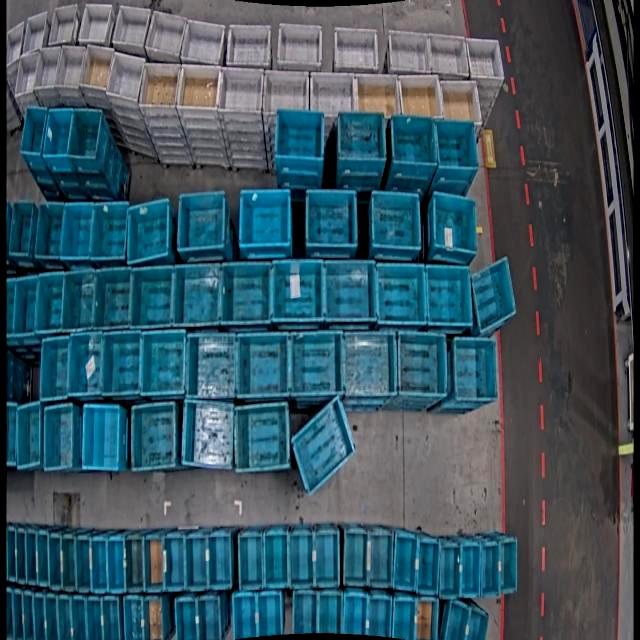Box: (290, 396, 356, 495), (394, 328, 450, 401), (235, 401, 292, 472), (288, 329, 344, 400), (322, 256, 380, 324), (339, 330, 397, 398), (470, 256, 521, 333), (368, 189, 424, 259), (237, 330, 293, 400), (448, 332, 502, 404), (269, 256, 325, 323), (372, 260, 428, 327), (182, 399, 235, 469), (303, 186, 359, 252), (220, 258, 272, 328), (239, 186, 294, 252), (430, 190, 480, 262), (185, 332, 239, 398), (177, 189, 229, 257), (422, 263, 474, 330), (140, 329, 190, 398), (130, 400, 178, 471), (174, 264, 224, 328), (128, 264, 175, 330), (127, 202, 172, 268), (272, 108, 324, 165), (100, 330, 142, 398), (336, 109, 386, 166), (390, 113, 439, 170), (435, 117, 481, 173), (94, 266, 134, 330), (57, 270, 97, 334), (274, 20, 323, 72), (332, 22, 381, 74), (82, 403, 120, 470), (88, 200, 128, 262), (218, 66, 265, 117), (397, 73, 444, 123), (263, 70, 312, 117), (182, 17, 227, 68), (308, 71, 356, 118), (68, 332, 102, 397), (226, 20, 272, 68), (438, 78, 482, 128), (146, 11, 187, 64), (355, 72, 403, 117), (139, 60, 183, 109), (60, 200, 95, 260), (389, 28, 432, 76), (179, 65, 221, 114), (114, 4, 152, 58), (82, 46, 116, 106), (106, 51, 143, 106), (67, 109, 105, 162), (44, 404, 73, 470), (34, 271, 65, 332), (42, 335, 72, 398), (33, 200, 64, 260), (56, 46, 88, 103), (16, 404, 45, 466), (11, 276, 40, 337), (9, 200, 39, 257), (44, 108, 74, 160), (264, 530, 290, 590), (207, 531, 233, 591), (32, 47, 63, 97), (394, 533, 420, 592), (238, 532, 264, 591), (314, 528, 339, 589), (343, 528, 368, 588), (48, 5, 82, 49), (82, 3, 114, 49), (164, 532, 188, 592), (288, 531, 313, 588), (188, 532, 212, 591), (370, 531, 394, 589), (21, 106, 48, 157), (142, 533, 165, 592), (105, 533, 126, 593), (291, 586, 317, 634), (21, 14, 50, 57), (127, 534, 148, 592), (480, 538, 500, 598), (258, 591, 283, 637), (232, 594, 257, 640), (444, 599, 472, 640), (440, 545, 461, 598), (197, 596, 222, 640), (500, 536, 518, 596), (367, 597, 393, 638), (462, 539, 480, 598), (90, 534, 108, 593), (420, 542, 440, 595), (344, 592, 368, 636), (392, 599, 417, 640), (319, 591, 342, 635), (124, 597, 147, 640), (175, 598, 198, 640), (62, 534, 78, 592), (49, 533, 65, 590), (143, 597, 164, 640), (101, 595, 121, 640), (75, 537, 91, 593), (417, 599, 438, 640), (35, 532, 50, 588), (25, 531, 40, 586), (85, 596, 103, 640), (6, 402, 18, 467), (9, 588, 24, 640), (467, 607, 489, 640), (71, 595, 87, 640), (57, 593, 72, 640), (23, 590, 37, 640), (15, 528, 27, 584), (33, 591, 46, 640), (45, 593, 58, 640), (6, 526, 16, 583)
